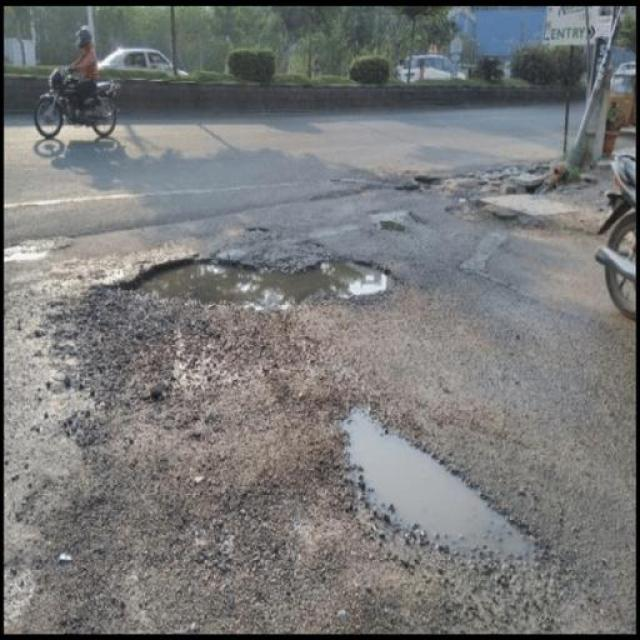puddle: (363, 431, 470, 550), (157, 262, 372, 302)
